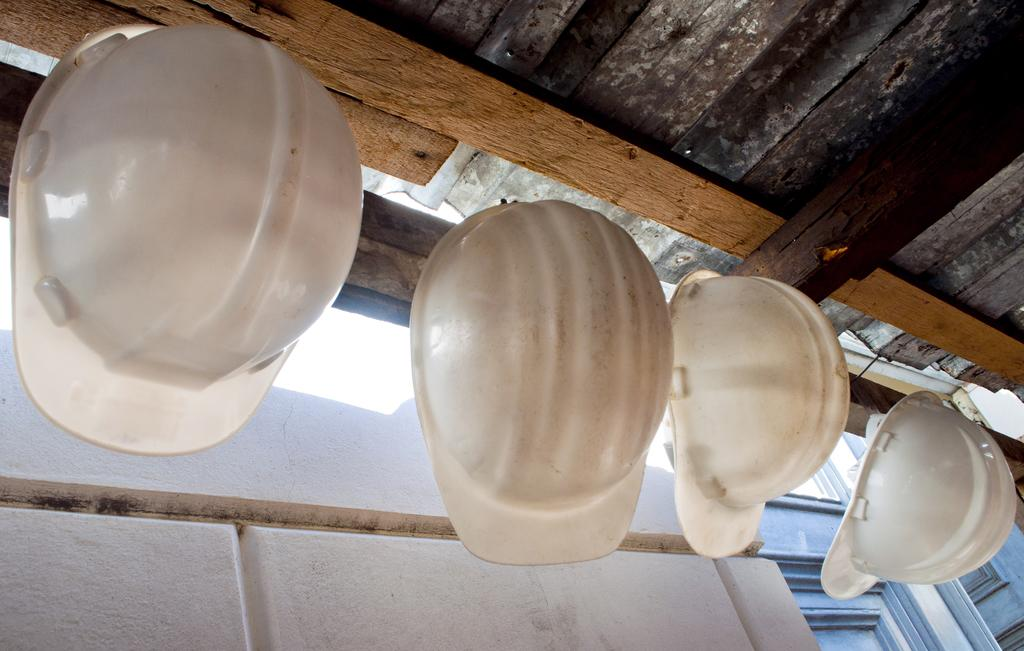helmet: (8, 23, 364, 458), (410, 199, 675, 566), (664, 268, 851, 559), (820, 390, 1017, 600)
